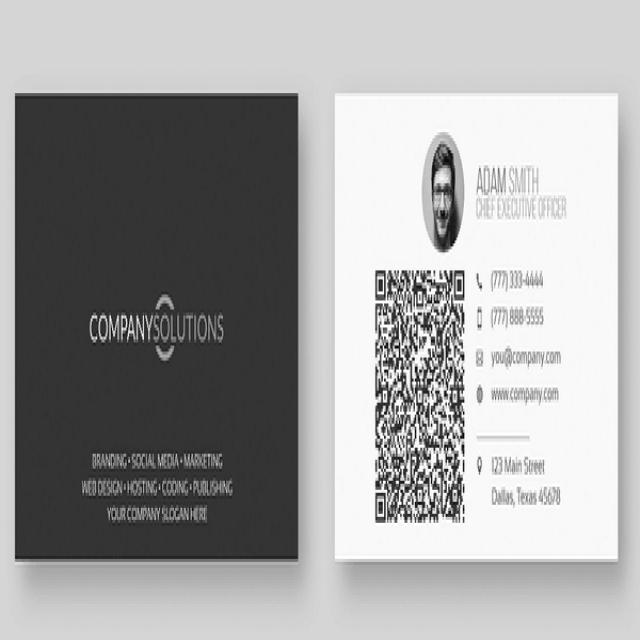QR-codes: (374, 263, 466, 526)
